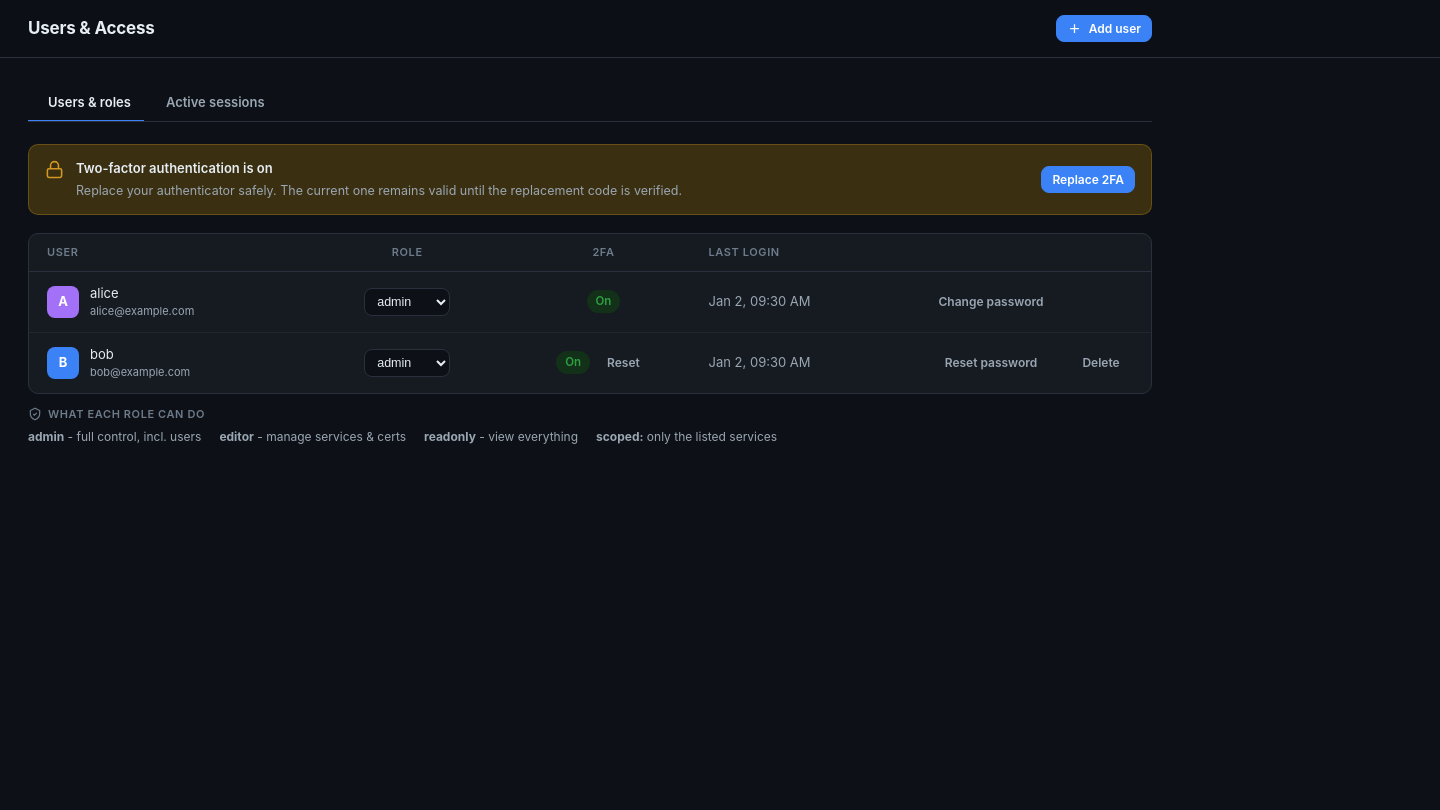
UsersAccess — forms & feedback › lets an admin password-confirm recovery-reset another user's lost 2FA
Expected: the text "bob@example.com" is shown, [90,364,190,381]
Click the button with aria-label "Reset 2FA for bob". click: (623, 363)
box: [596,349,651,376]
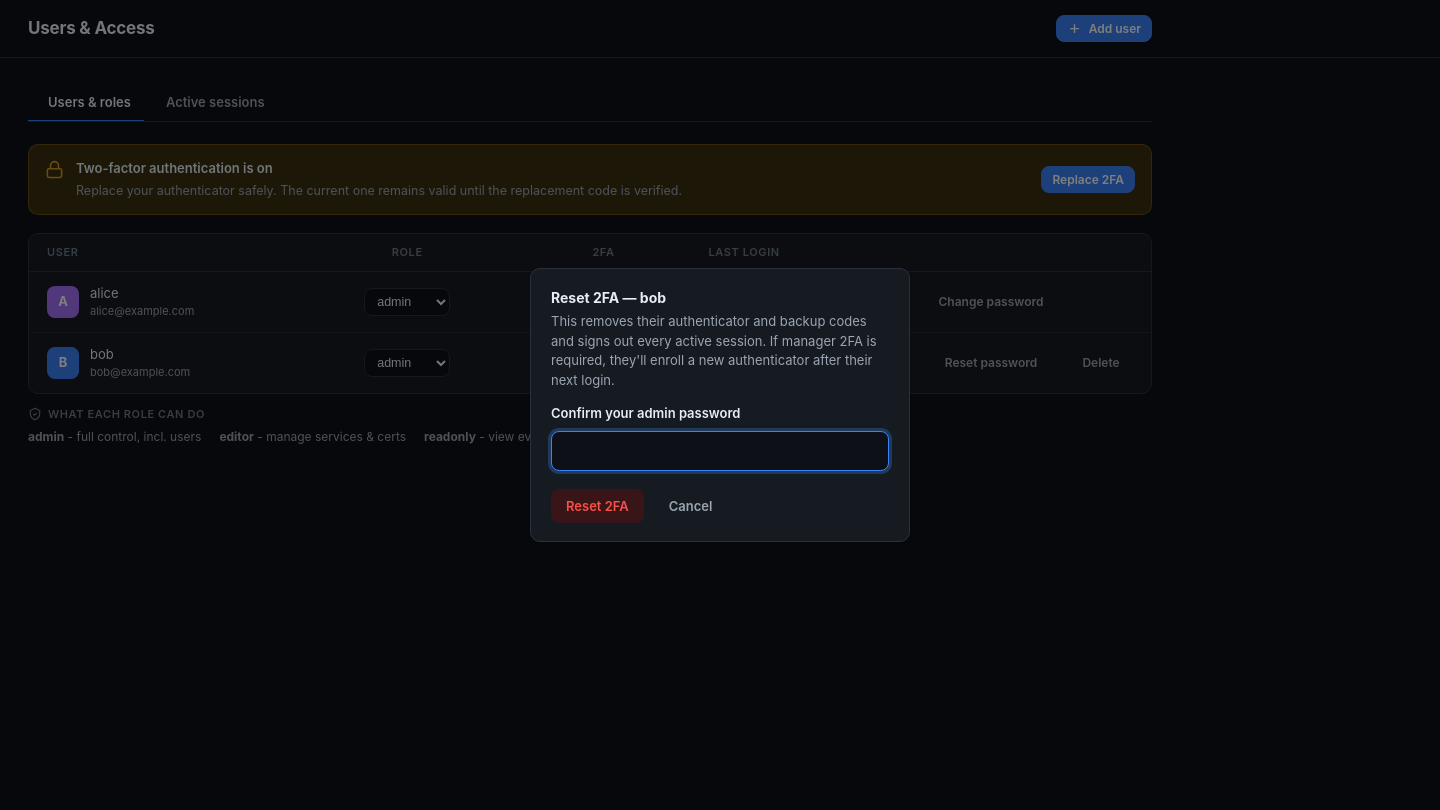
Type "actor-password" into the password field labelled "Confirm your admin password". click: (720, 451)
box: [551,431,889,471]
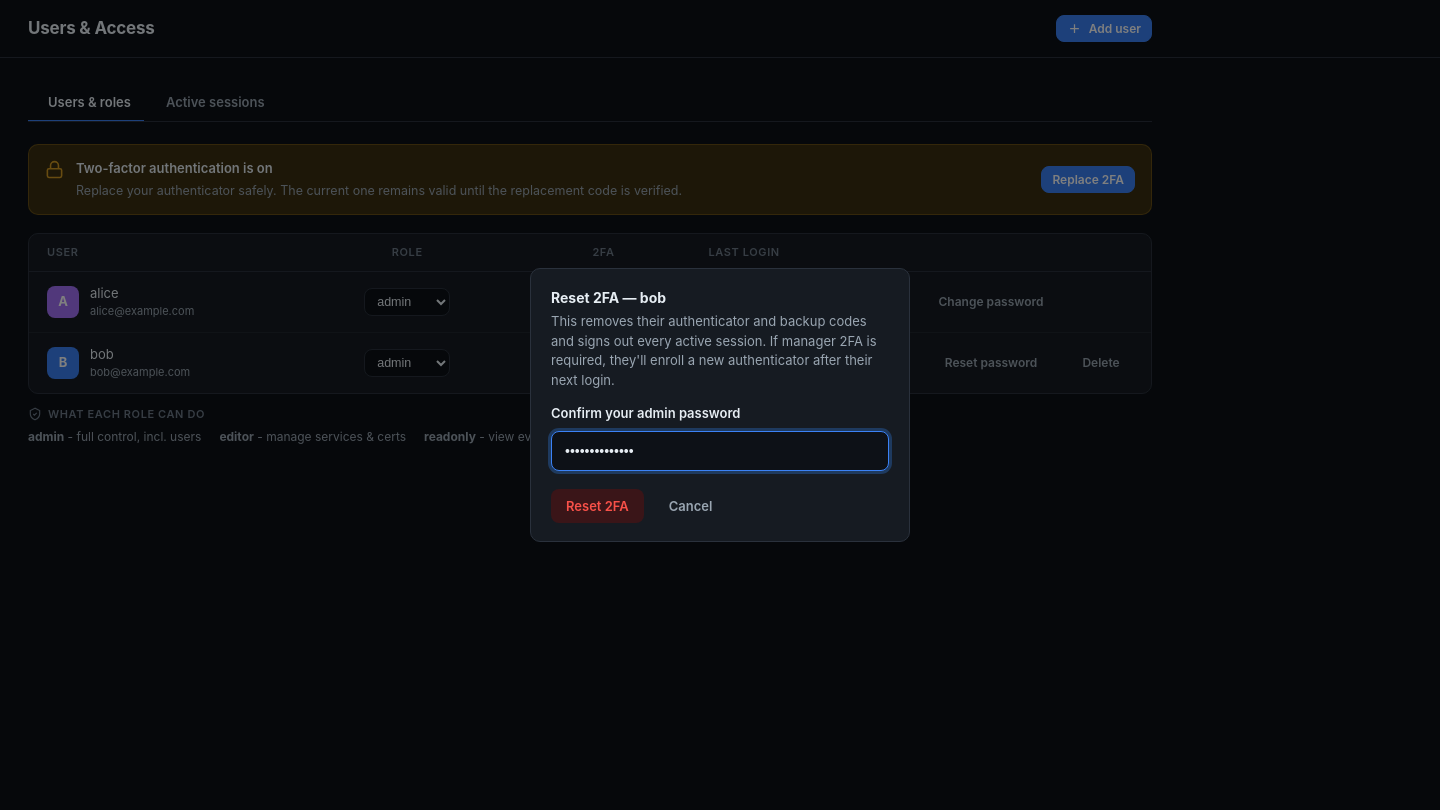
Click the button "Reset 2FA". click: (597, 506)
box: [551,489,644,523]
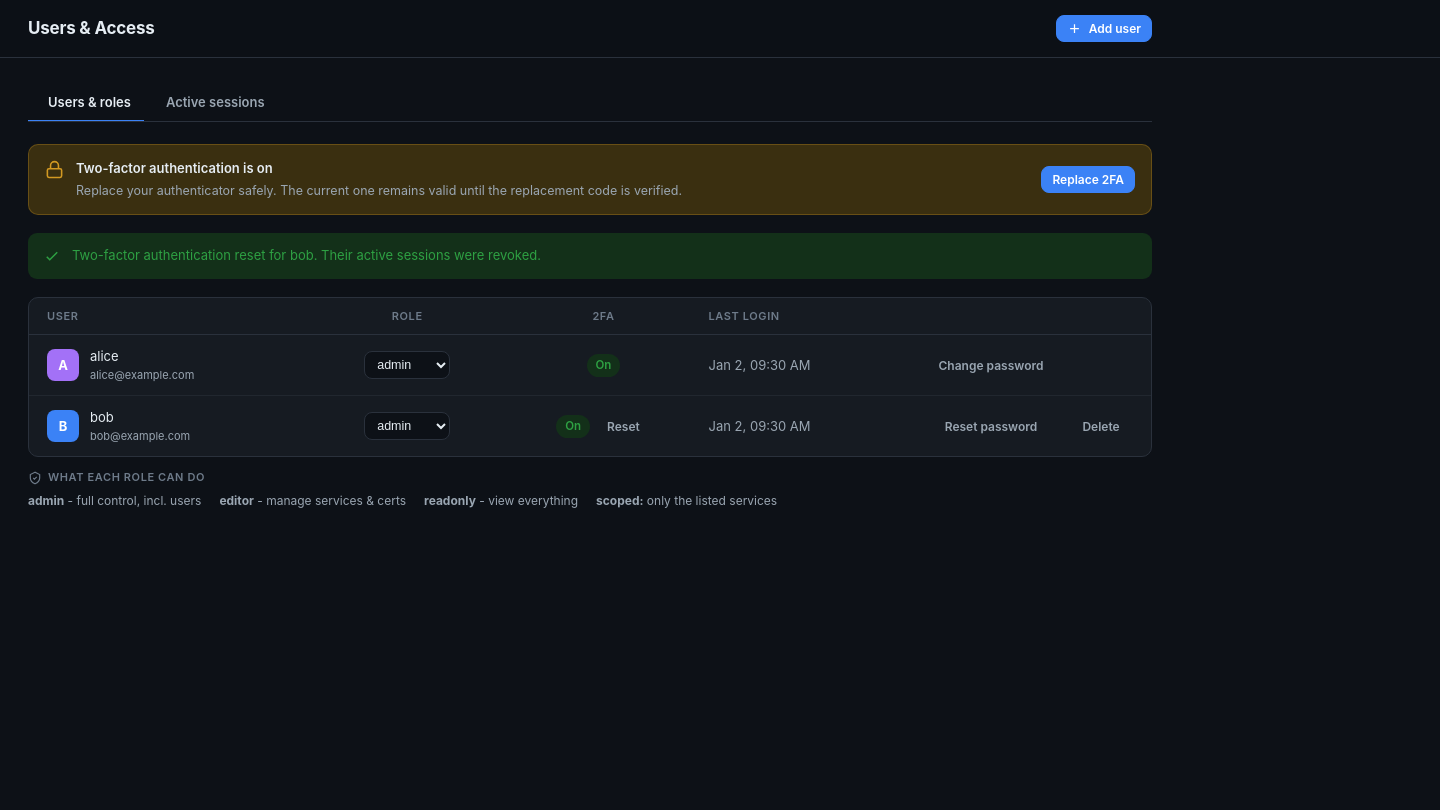
Now the message shows "Two-factor authentication reset for bob", box [72,247,541,263]
